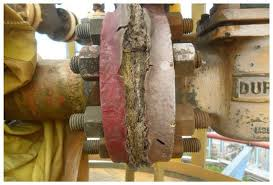rust: (116, 6, 157, 168), (167, 98, 211, 134), (64, 106, 109, 136), (66, 49, 106, 77), (163, 11, 195, 38), (74, 18, 109, 42), (167, 134, 201, 158), (78, 137, 114, 158)
